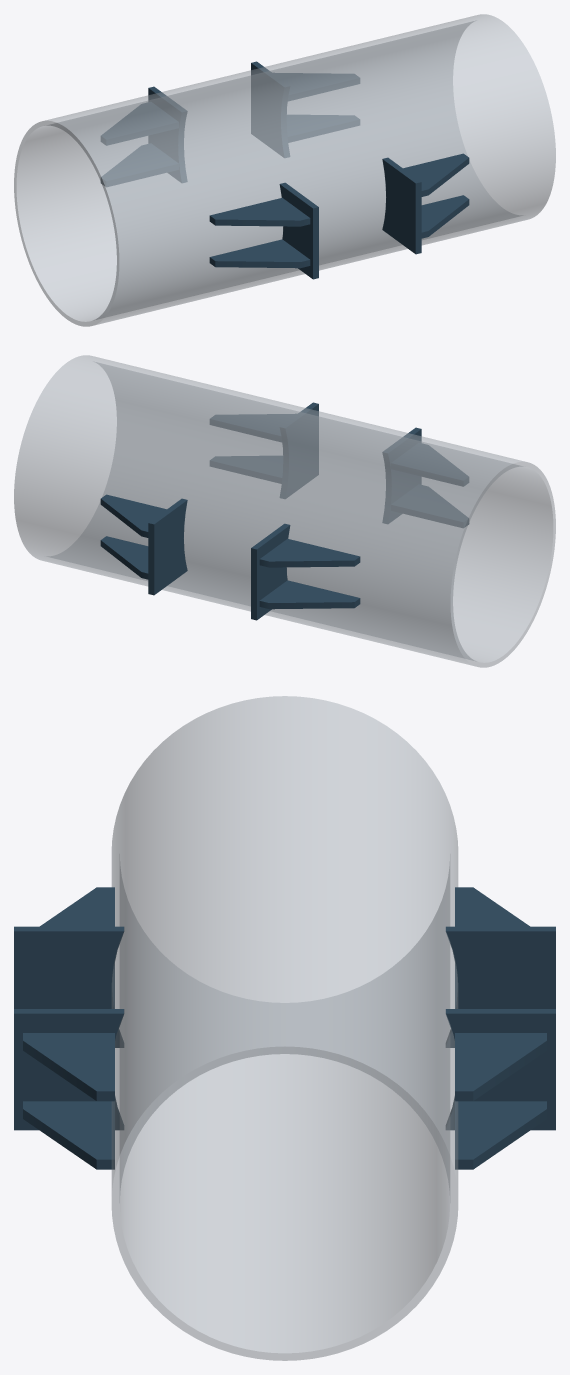
File: TS-660.00.00-12-opora-dn377.glb
The picture shows the model from 3 angles, top to bottom: view 1: azimuth 30°, elevation 25°; view 2: azimuth 150°, elevation 25°; view 3: azimuth 270°, elevation 25°; orthographic projection. The views are drawn at different scales.
Parts seen in each view (by area): view 1: truba, upor_1, upor_7, upor_5, upor_6, upor_4, upor_11, upor_12, upor_10, upor_9, upor_8, upor_2 (+1 smaller); view 2: truba, upor_7, upor_1, upor_12, upor_11, upor_10, upor_6, upor_5, upor_4, upor_2, upor_3, upor_9 (+1 smaller); view 3: truba, upor_4, upor_10, upor_1, upor_7, upor_3, upor_8, upor_2, upor_9, upor_5, upor_12.
Boxes of the visible parts, x1,y1,x2,y2 form: truba: (14,14,555,326); upor_1: (382,157,421,254); upor_7: (251,61,289,157); upor_5: (209,197,310,226); upor_6: (209,239,310,268); upor_4: (279,182,318,279); upor_11: (100,143,178,186); upor_12: (101,102,178,145); upor_10: (148,86,187,182); upor_9: (273,73,359,100); upor_8: (287,115,359,142); upor_2: (403,153,469,196); truba: (14,355,555,667); upor_7: (148,498,187,595); upor_1: (280,402,318,498); upor_12: (259,538,360,567); upor_11: (259,580,360,609); upor_10: (251,523,290,620); upor_6: (391,484,469,527); upor_5: (391,443,468,486); upor_4: (382,427,421,523); upor_2: (210,414,296,441); upor_3: (210,456,282,483); upor_9: (100,494,166,537); truba: (111,696,458,1360); upor_4: (14,926,124,1047); upor_10: (445,926,555,1047); upor_1: (14,1009,124,1130); upor_7: (445,1009,555,1130); upor_3: (23,1101,114,1169); upor_8: (455,1101,546,1169); upor_2: (23,1033,114,1101); upor_9: (455,1033,546,1101); upor_5: (40,887,114,926); upor_12: (455,887,529,926).
Size of the model in its own units: 901 by 377 by 589.
